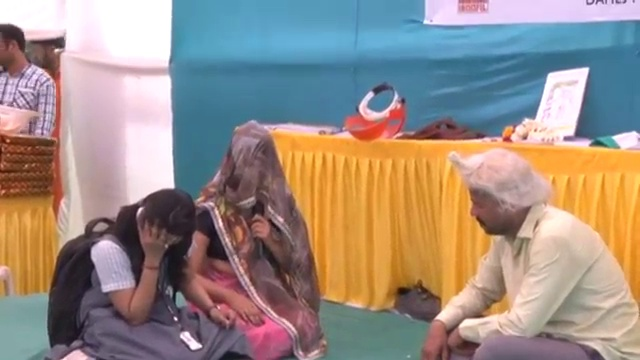helmet: (0, 104, 39, 136)
helmet_off: (452, 154, 550, 242), (221, 123, 280, 201), (122, 191, 194, 254), (0, 22, 24, 73)
helmet_on: (22, 27, 60, 63)
person: (416, 153, 628, 360), (185, 124, 323, 356), (40, 190, 223, 357), (0, 30, 64, 159)
